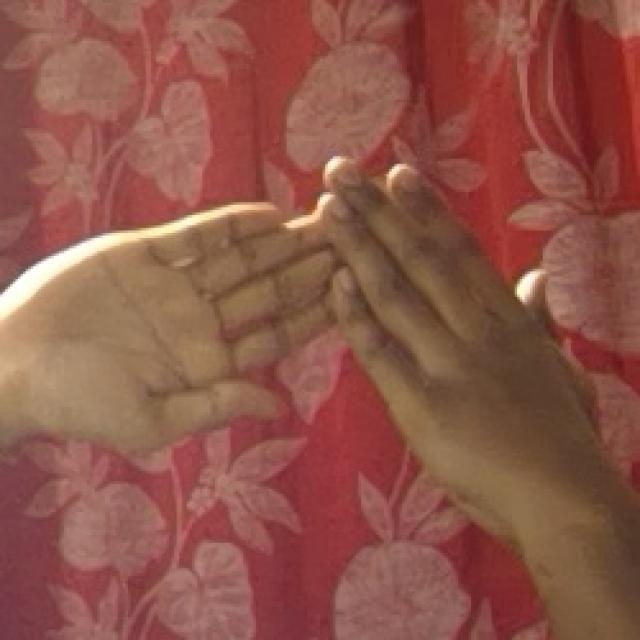Alphabet-H: (19, 146, 606, 538)
